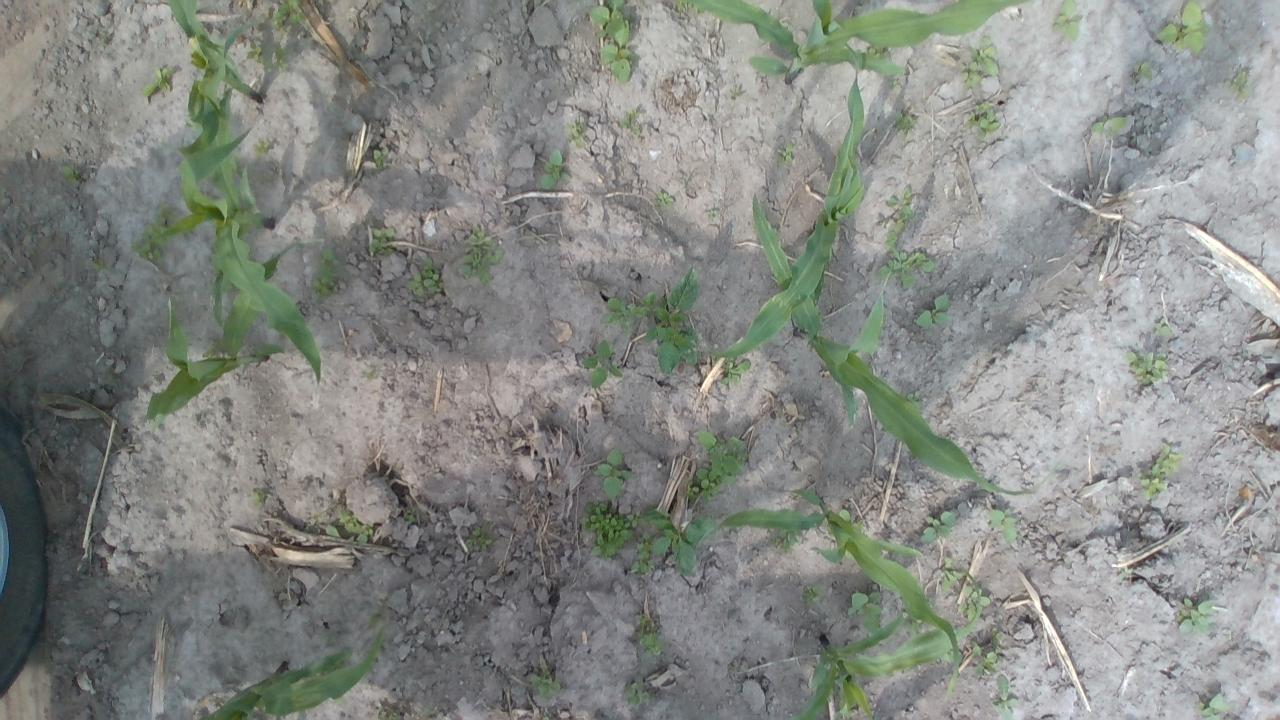Maize: (750, 189, 1030, 494), (692, 487, 961, 702), (708, 48, 867, 359), (158, 87, 322, 385), (146, 237, 324, 429), (684, 0, 1038, 84), (793, 567, 981, 720), (196, 623, 384, 720), (164, 0, 264, 158)
Weeds: (604, 263, 702, 374), (644, 505, 718, 576), (589, 0, 640, 85), (582, 500, 644, 560), (1156, 1, 1210, 57), (879, 236, 935, 289), (698, 431, 748, 485), (459, 226, 503, 284), (1140, 444, 1184, 500), (595, 449, 633, 501), (584, 340, 622, 388), (846, 591, 884, 634), (408, 257, 446, 297), (1126, 352, 1168, 385), (1177, 598, 1214, 635), (966, 101, 1001, 140), (916, 292, 952, 328), (684, 469, 722, 503), (1053, 0, 1084, 41), (338, 512, 375, 546), (957, 585, 990, 622), (540, 150, 570, 190), (992, 674, 1018, 720), (886, 190, 914, 231), (990, 507, 1021, 544), (922, 511, 956, 544), (637, 614, 662, 657), (972, 642, 1002, 677), (306, 511, 342, 540), (632, 532, 654, 577), (973, 35, 997, 76), (142, 67, 172, 99), (528, 668, 562, 696), (936, 556, 962, 592), (1091, 115, 1130, 139), (1198, 692, 1230, 720), (273, 1, 304, 28), (370, 224, 396, 256), (722, 360, 751, 386), (771, 528, 801, 551), (1226, 72, 1252, 98), (466, 527, 492, 552), (376, 700, 406, 720), (566, 118, 586, 148), (317, 248, 340, 274), (315, 276, 338, 300), (895, 109, 917, 134), (626, 683, 649, 706), (132, 242, 161, 260), (622, 110, 641, 134), (272, 44, 288, 70), (143, 226, 166, 244), (962, 62, 978, 87), (802, 584, 824, 602), (372, 148, 388, 170), (248, 41, 264, 63), (1154, 319, 1172, 338), (60, 167, 80, 184), (1134, 62, 1152, 80), (252, 139, 270, 157), (656, 190, 674, 208), (252, 489, 271, 506), (322, 630, 342, 646), (156, 204, 172, 224), (778, 144, 793, 165), (886, 228, 899, 250), (991, 628, 1005, 646), (870, 44, 886, 59), (420, 708, 440, 720), (1117, 566, 1133, 580), (402, 507, 416, 523), (731, 85, 744, 100), (906, 392, 922, 404), (676, 0, 692, 11), (93, 260, 105, 273), (840, 508, 851, 522), (707, 210, 718, 219), (310, 0, 324, 6), (544, 717, 550, 720)
